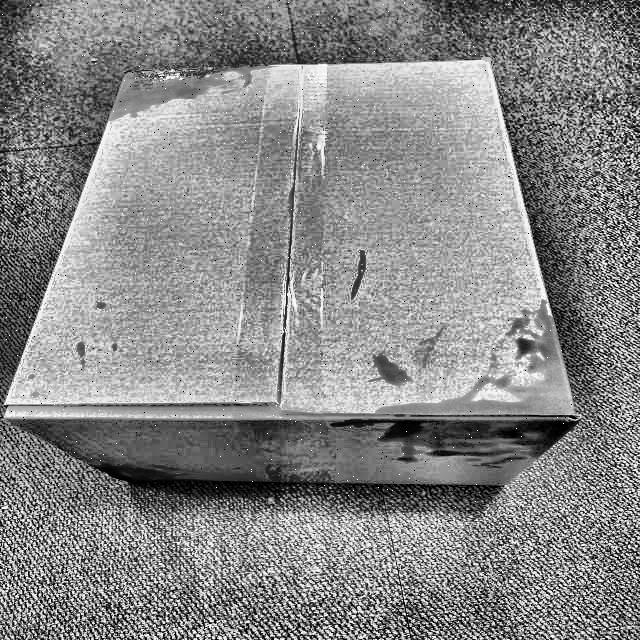box: (1, 55, 595, 506)
wet: (381, 308, 569, 478), (114, 60, 250, 129)
